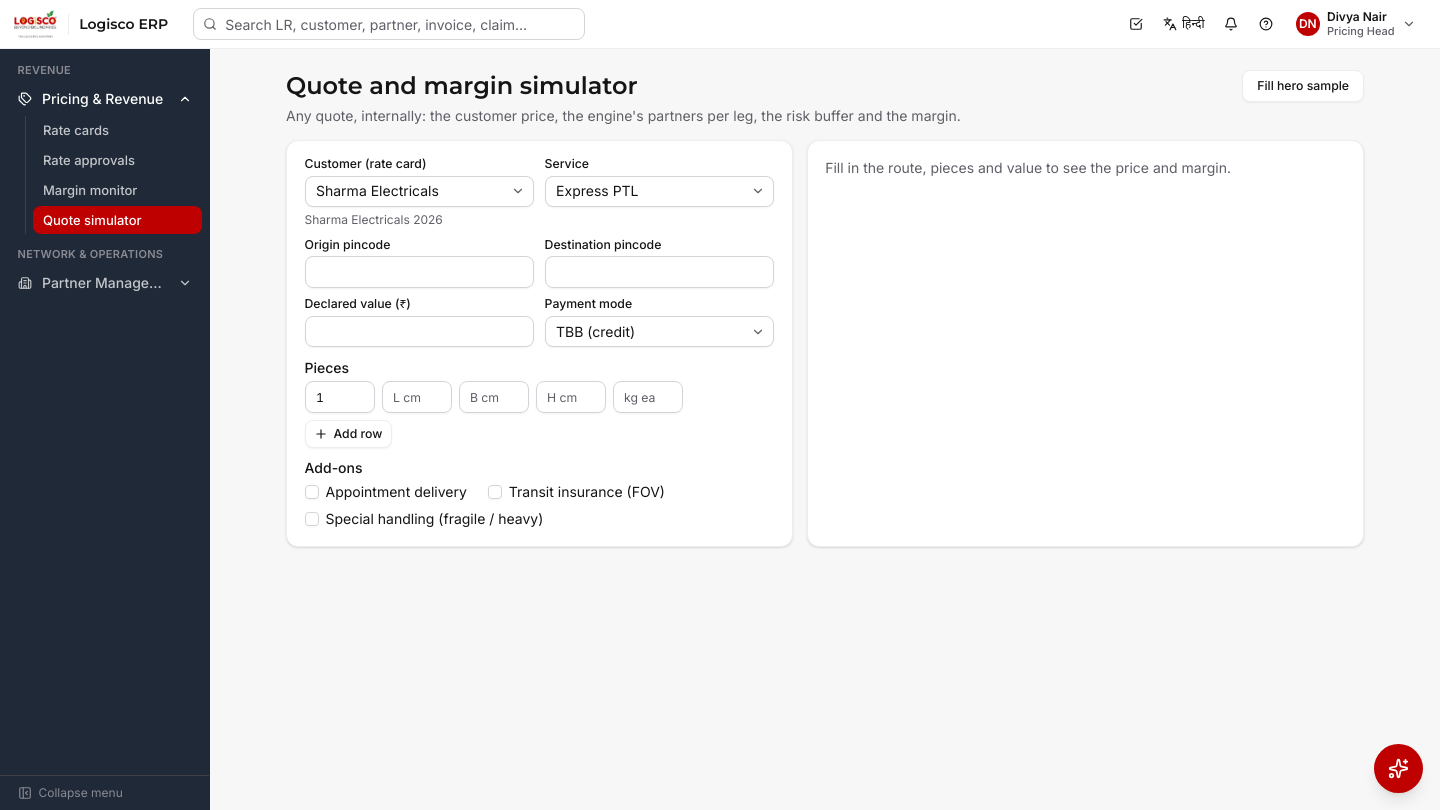
it: Pricing: ERP-24, ERP-25 › ERP-25: hero sample → ₹562.80 (18.3%) → ₹501.30 (16.3%); another first-mile partner recalculates
Expected: the text "Fill in the route, pieces and value to see the price and margin." is shown, [825,159,1231,176]
Click the button "Fill hero sample" at (1303, 86), box [1242,70,1364,102]
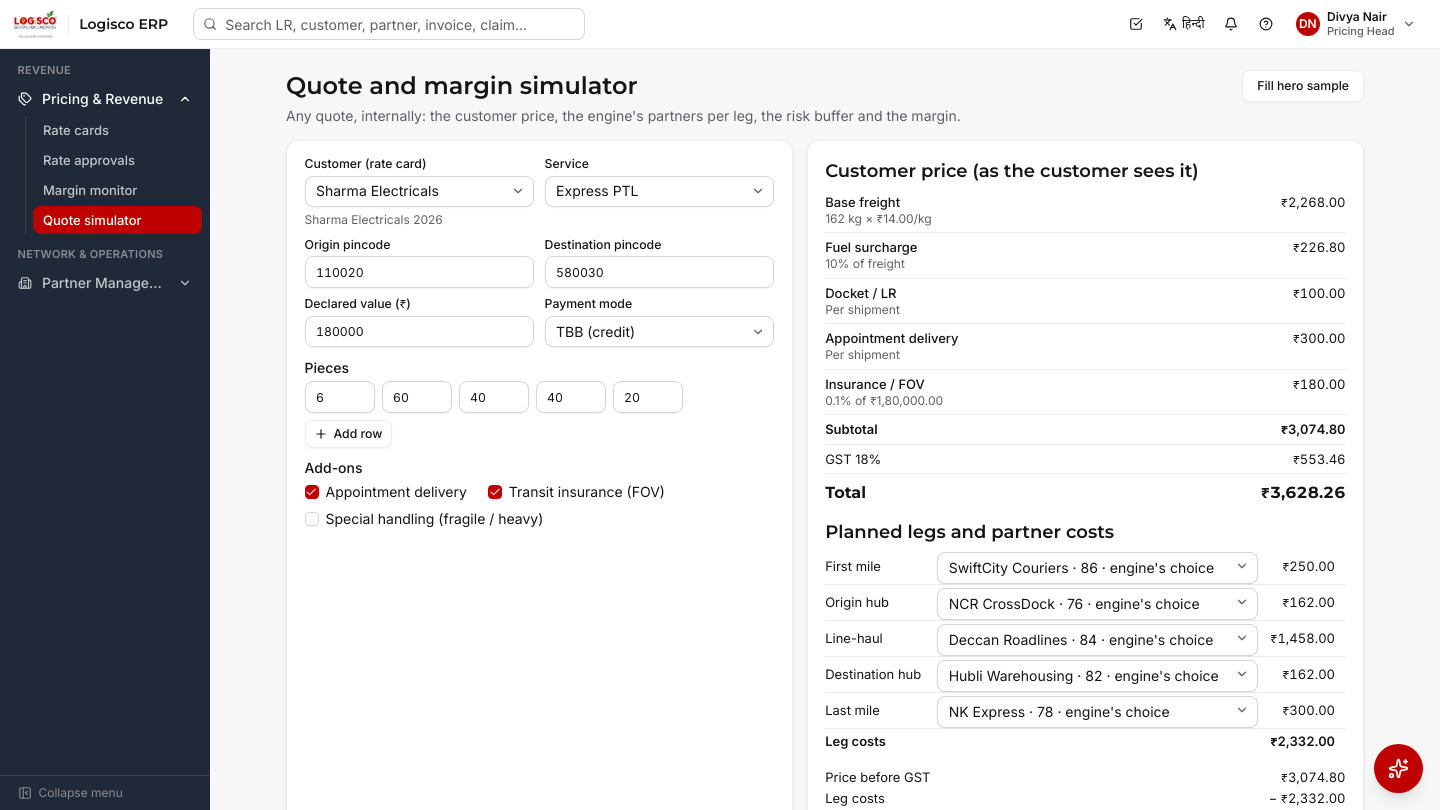
Now the element with test id "sim-margin" shows "₹3,074.80", box [1281,768,1346,784]
Select "QuickLink Express · 74" in the dropdown named "Partner for First mile" at (1097, 568), box [937,552,1258,584]
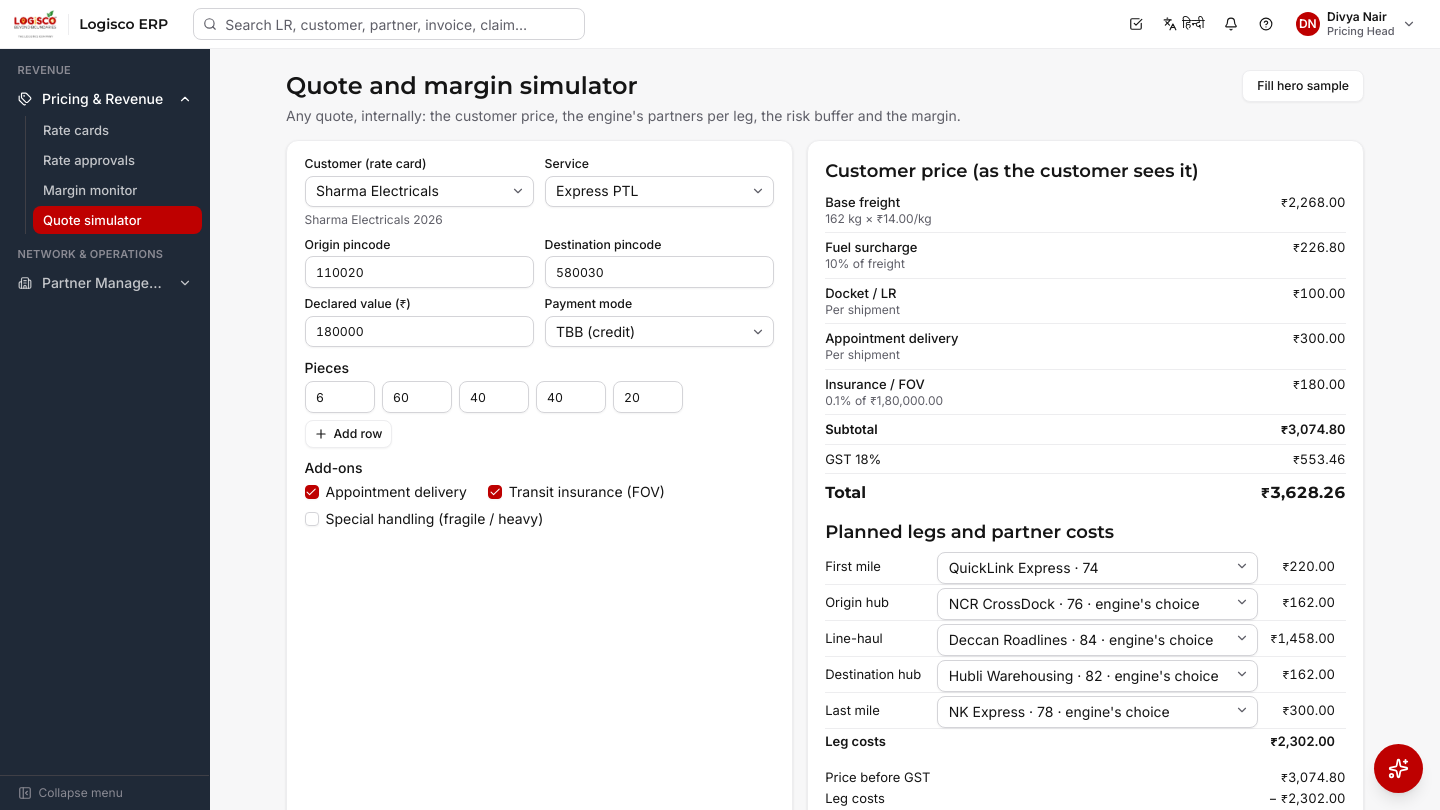
Replace the text in the field labelled "Destination pincode" with "600032" at (659, 272), box [545,256,774,288]
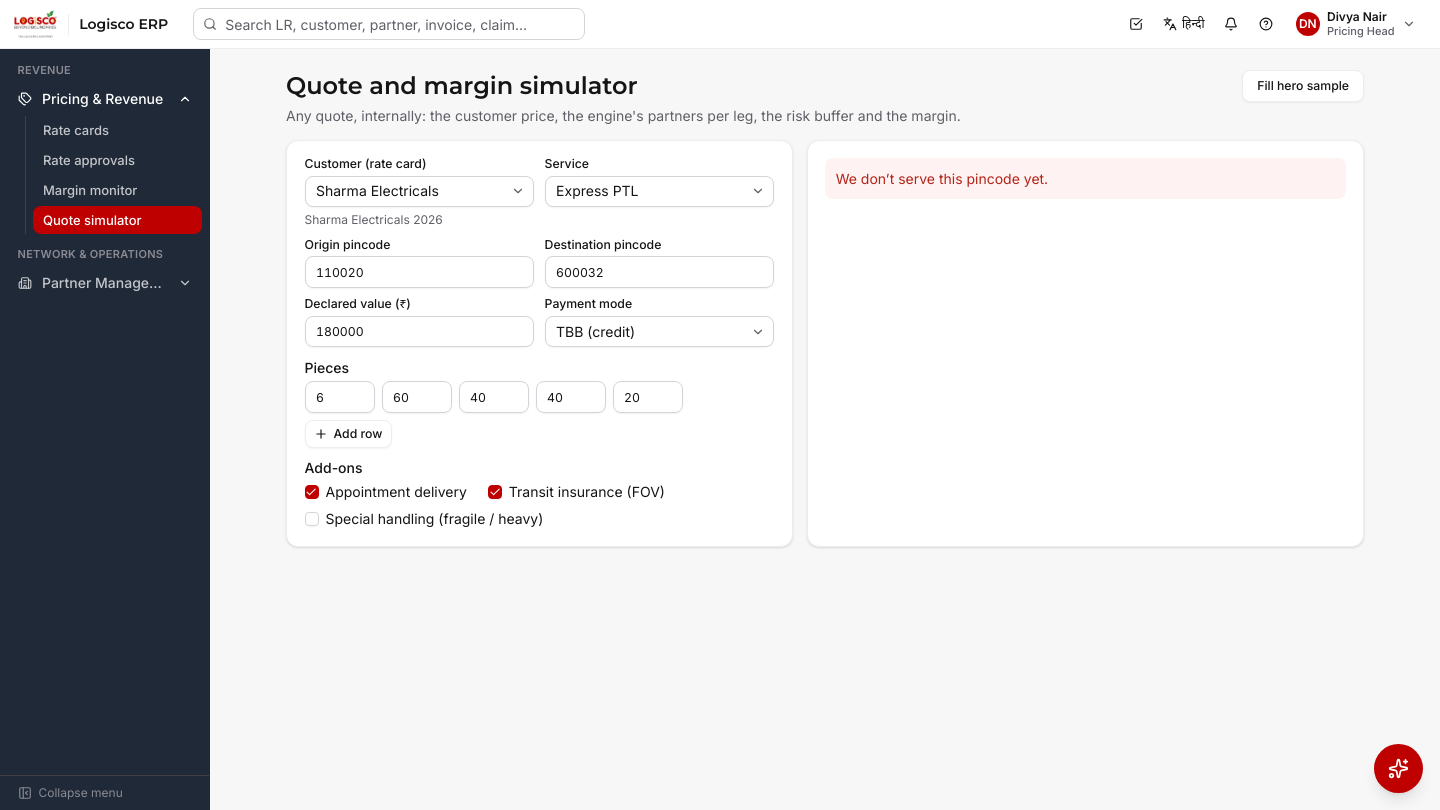
Now the message "We don’t serve this pincode yet." is shown, box [825,158,1346,199]
